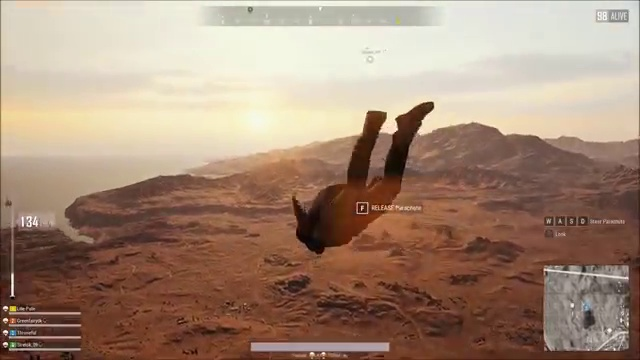Player: (262, 95, 446, 261)
